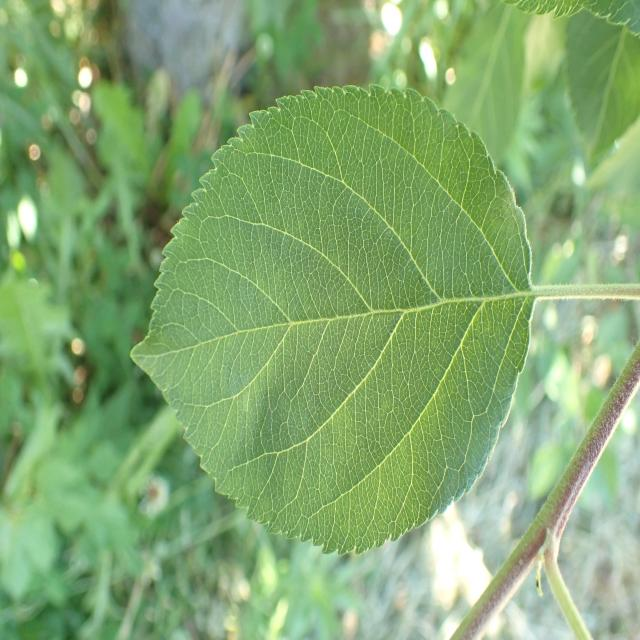healthy: (128, 82, 534, 558)
